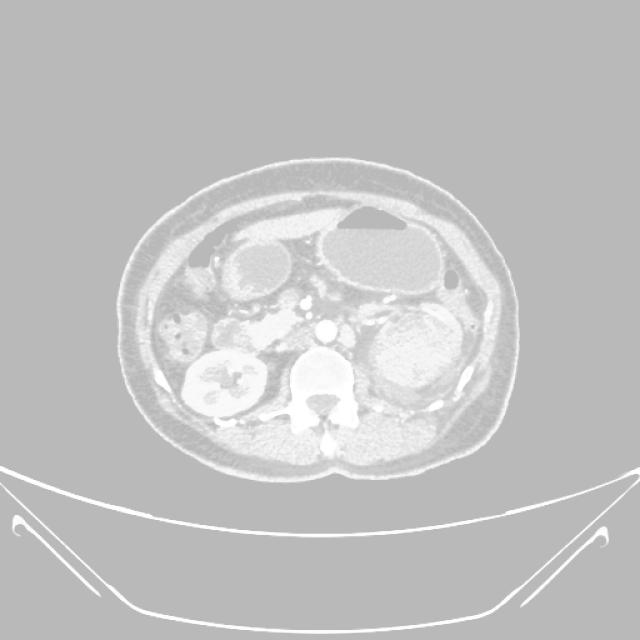TUMOR: (109, 191, 445, 361)
